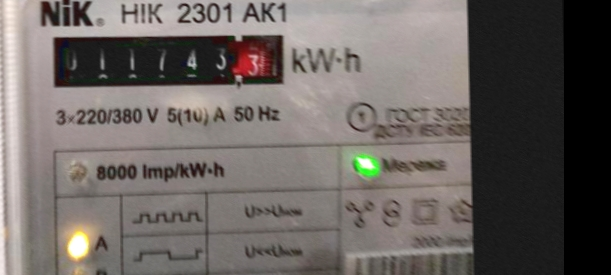0: (62, 43, 77, 72)
1: (123, 42, 136, 70), (94, 43, 105, 70)
3: (212, 43, 227, 70), (243, 51, 258, 76)
4: (182, 44, 197, 71)
7: (152, 41, 168, 70)
screen: (40, 19, 294, 99)
